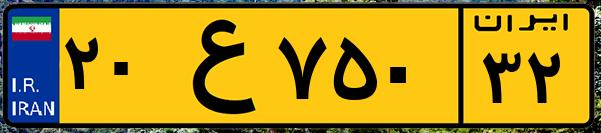0: (385, 28, 445, 110), (110, 28, 158, 98)
2: (57, 26, 110, 100), (525, 38, 570, 115)
3: (475, 38, 525, 113)
5: (330, 28, 385, 110)
7: (270, 28, 330, 110)
ع: (158, 12, 270, 120)
